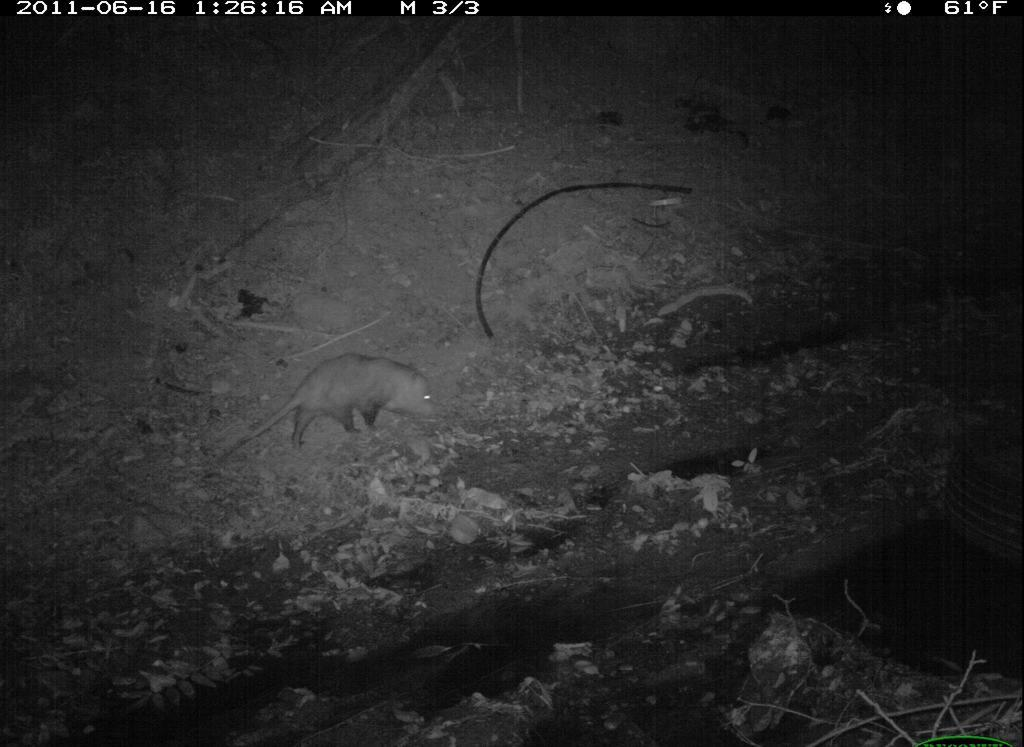opossum: (203, 340, 468, 491)
